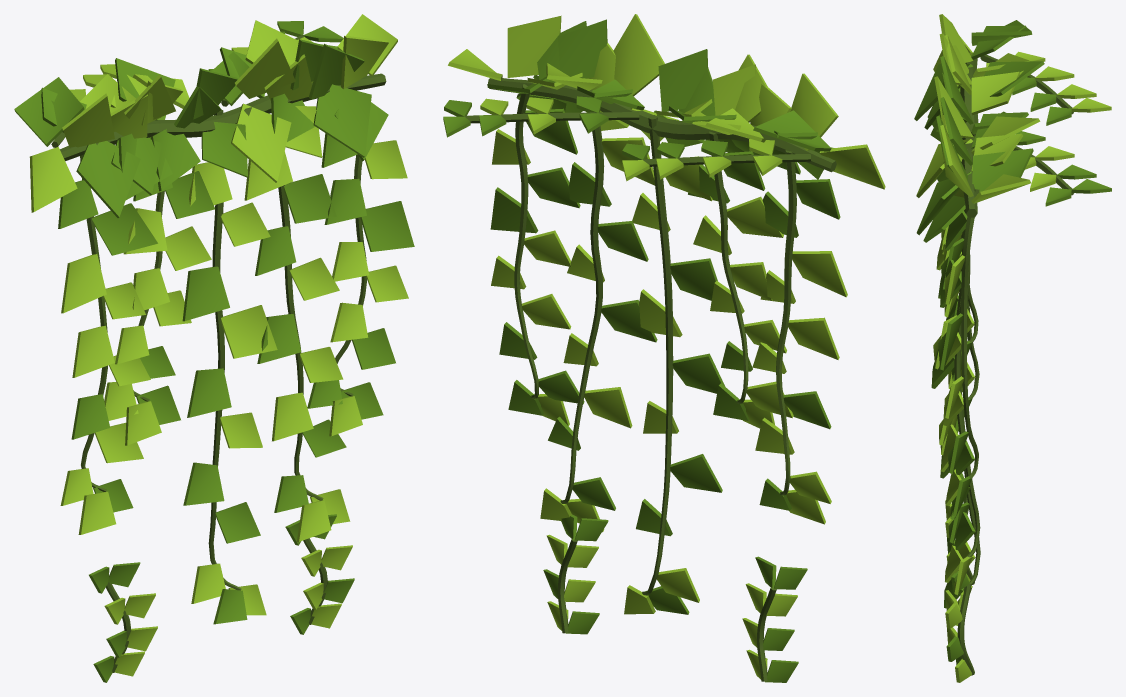
The model's file is vines.glb.
The picture shows the model from 3 angles, left to right: view 1: azimuth 30°, elevation 25°; view 2: azimuth 150°, elevation 25°; view 3: azimuth 270°, elevation 25°; orthographic projection. The views are drawn at different scales.
Parts seen in each view (by area): view 1: Body; view 2: Body; view 3: Body.
Boxes of the visible parts, <box> form: Body: <box>14,14,414,682</box>; Body: <box>443,14,885,682</box>; Body: <box>914,14,1111,682</box>.
Size of the model in its own units: 1.15 by 1.73 by 0.5367.
